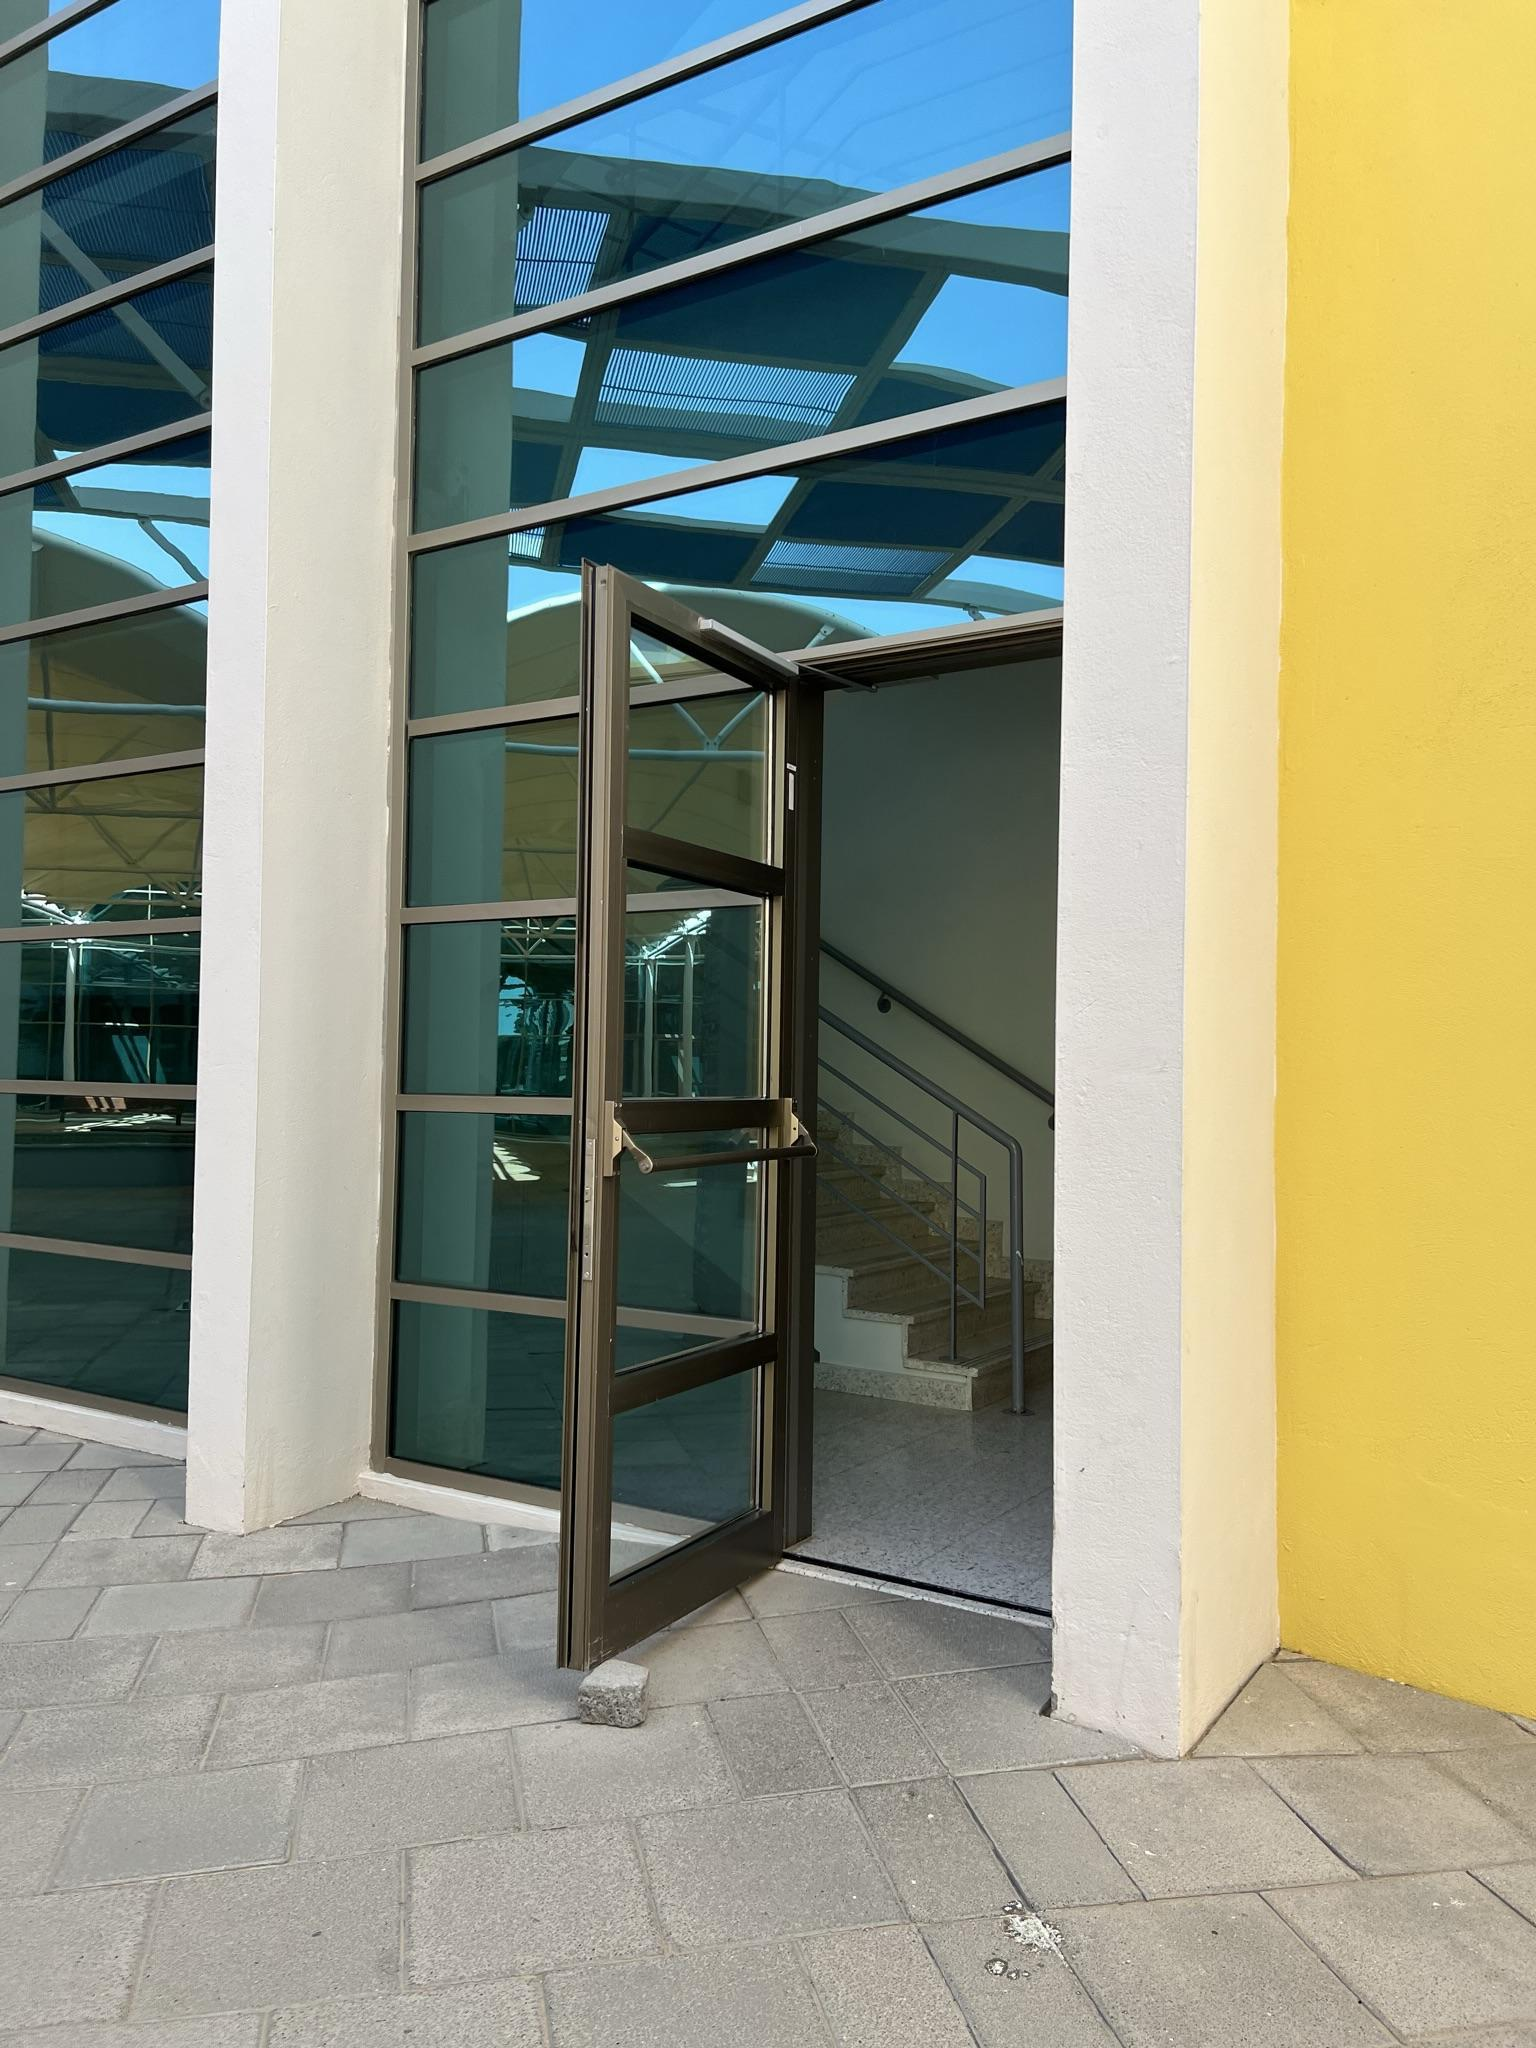door: (555, 606, 803, 1674)
